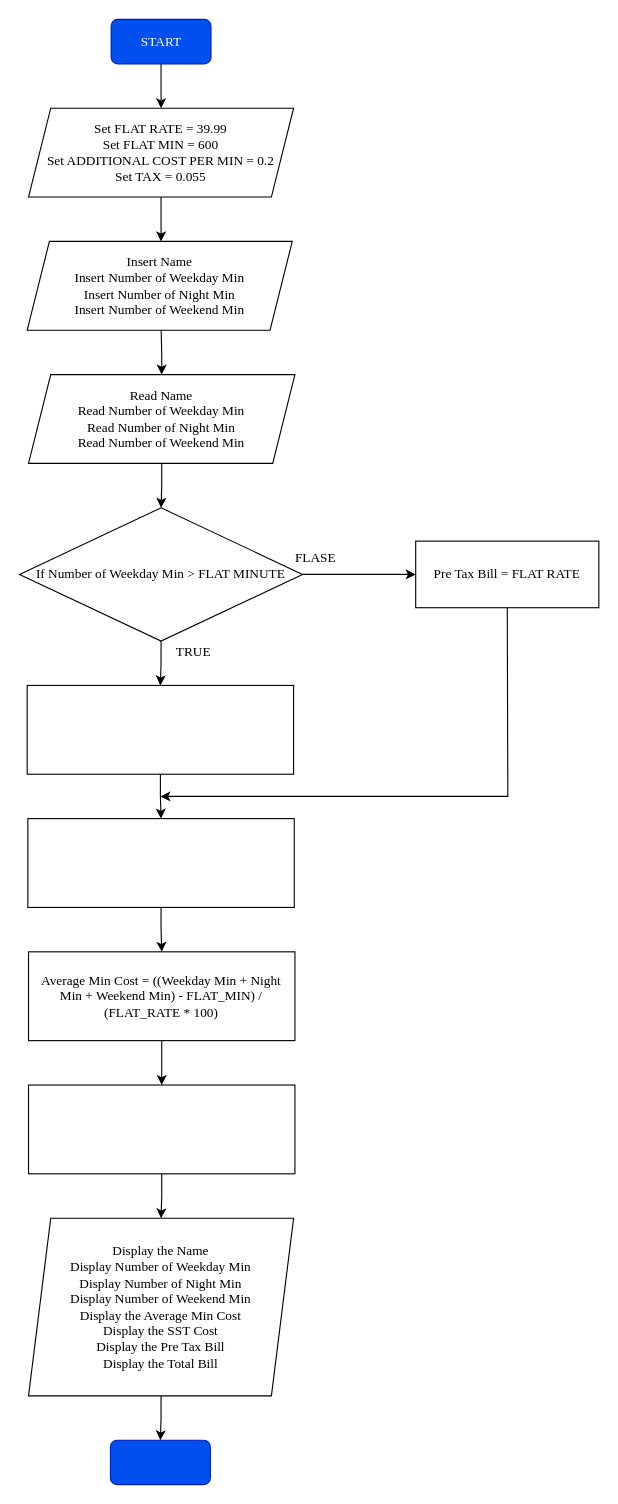
The diagram is 618 pixels wide and 1504 high, and some of its shapes have lost their labels. The box of each missing label's shape, as (x1, y1, x2, y2) in pixels:
END: (109, 1439, 210, 1485)
Pre Tax Bill = ((Weekday Min - FLAT MIN) * ADDITIONAL COST PER MIN) + FLAT RATE: (26, 684, 294, 774)
SST COST = Pre Tax Bill * TAX: (27, 818, 294, 907)
Total Bill = Pre Tax Bill + SST COST: (27, 1084, 295, 1174)
